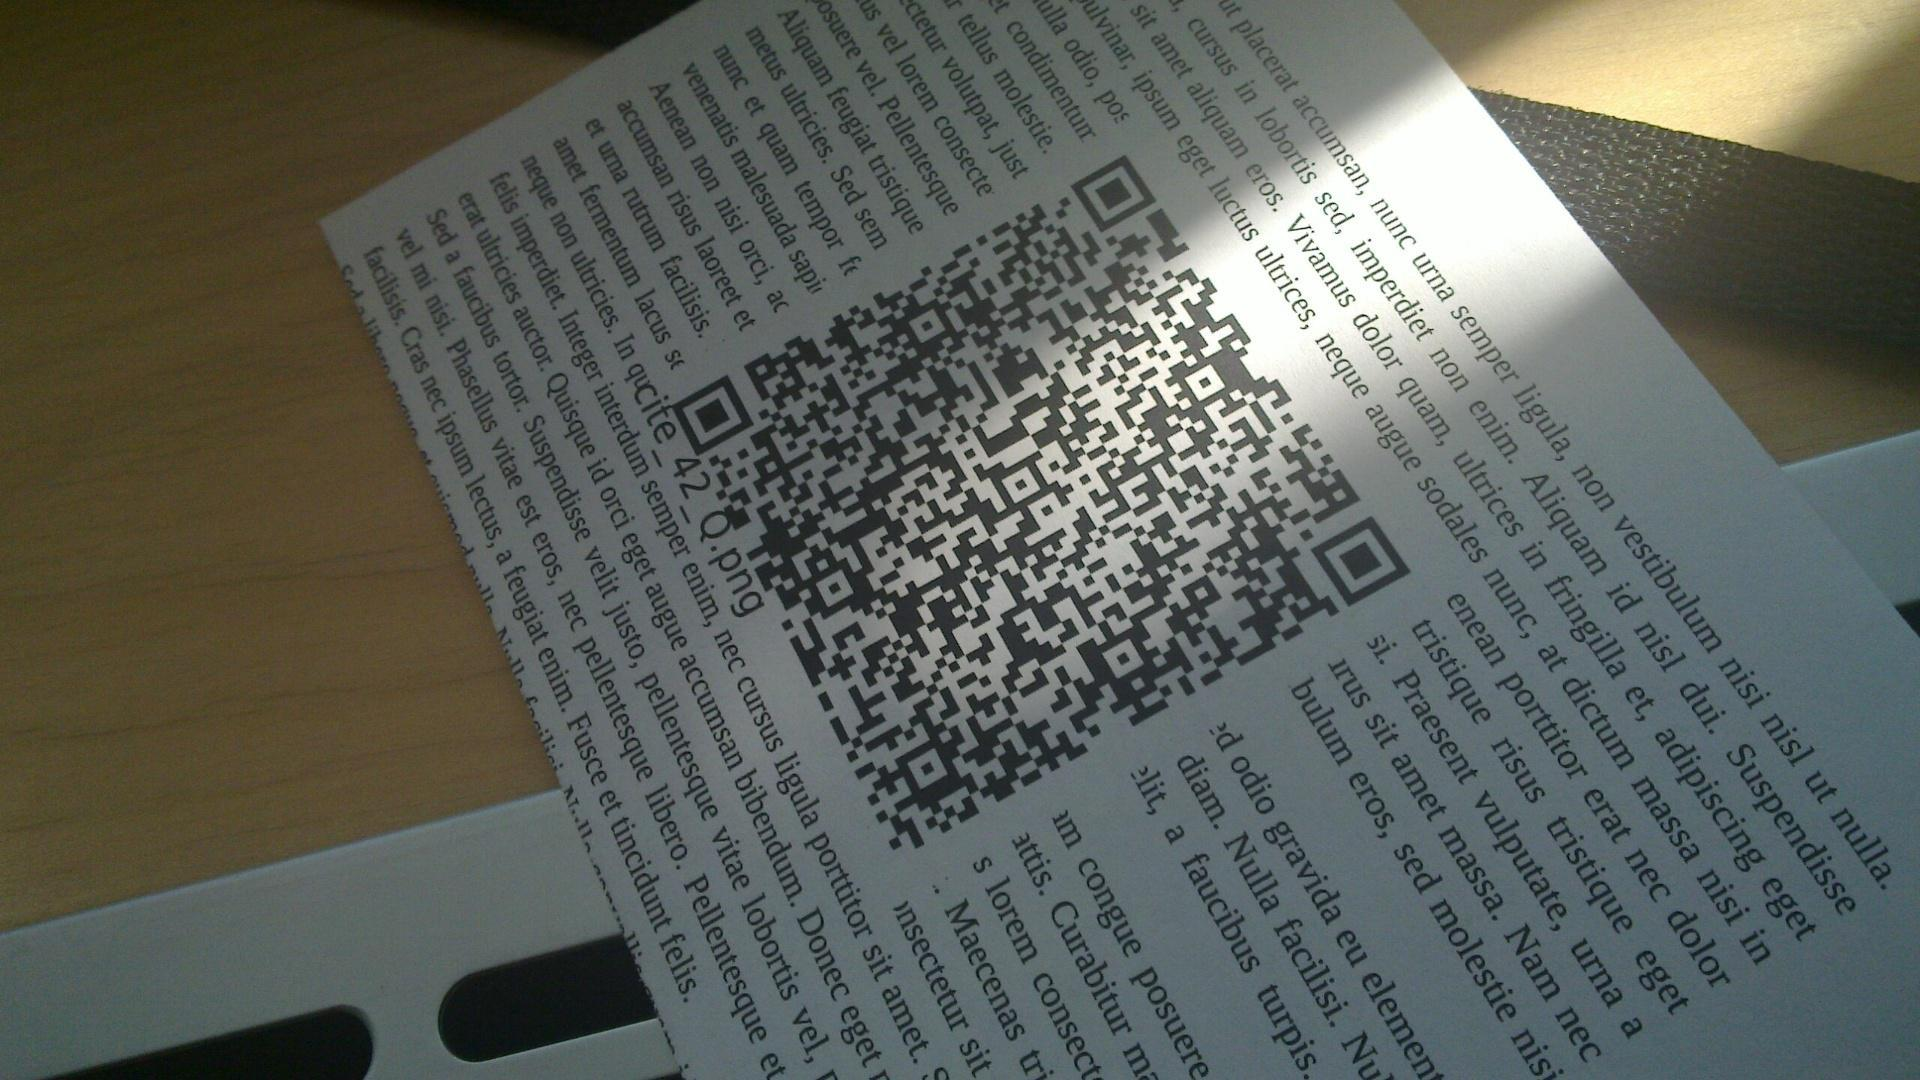Finder pattern: (1311, 512, 1410, 605), (1069, 152, 1156, 232), (669, 380, 753, 455)
